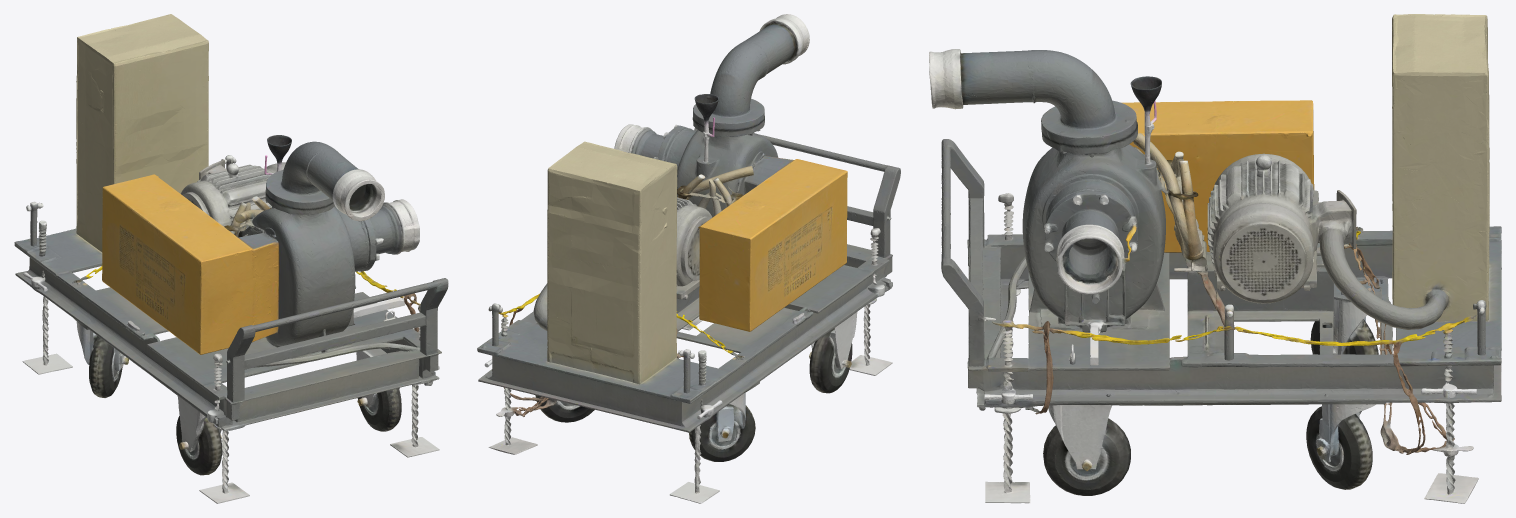
Rendered from industrial-pump-3d-model_clone1-1.glb.
The picture shows the model from 3 angles, left to right: view 1: azimuth 30°, elevation 25°; view 2: azimuth 150°, elevation 25°; view 3: azimuth 270°, elevation 25°; orthographic projection. The views are drawn at different scales.
Visible parts, largest first — view 1: tripo_node_575dd4e3-4b85-45ed-a3c3-ad3aaaf38329; view 2: tripo_node_575dd4e3-4b85-45ed-a3c3-ad3aaaf38329; view 3: tripo_node_575dd4e3-4b85-45ed-a3c3-ad3aaaf38329.
Boxes of the visible parts, x1,y1,x2,y2 form: tripo_node_575dd4e3-4b85-45ed-a3c3-ad3aaaf38329: [14, 14, 448, 503]; tripo_node_575dd4e3-4b85-45ed-a3c3-ad3aaaf38329: [477, 14, 900, 503]; tripo_node_575dd4e3-4b85-45ed-a3c3-ad3aaaf38329: [929, 14, 1501, 503].
Size of the model in its own units: 0.5904 by 0.7623 by 0.9977.
1 material, 1 textured.
